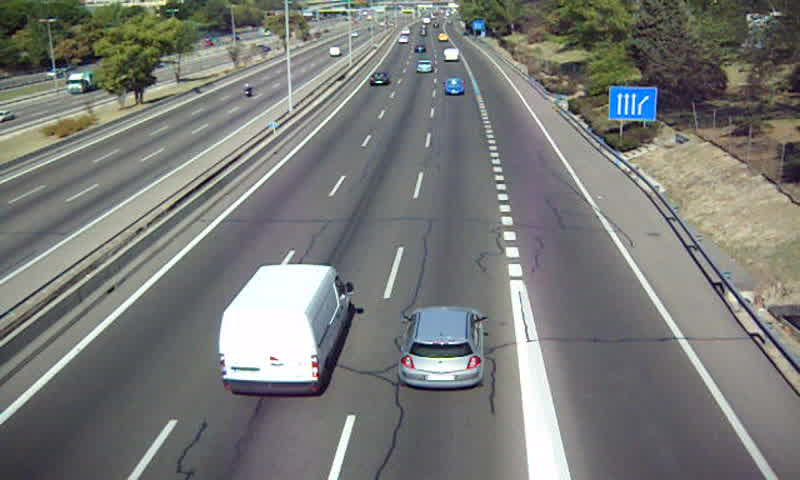car: (400, 308, 485, 389), (444, 77, 466, 96), (367, 72, 392, 88), (415, 59, 433, 74)
van: (219, 264, 352, 396), (442, 48, 460, 63)
